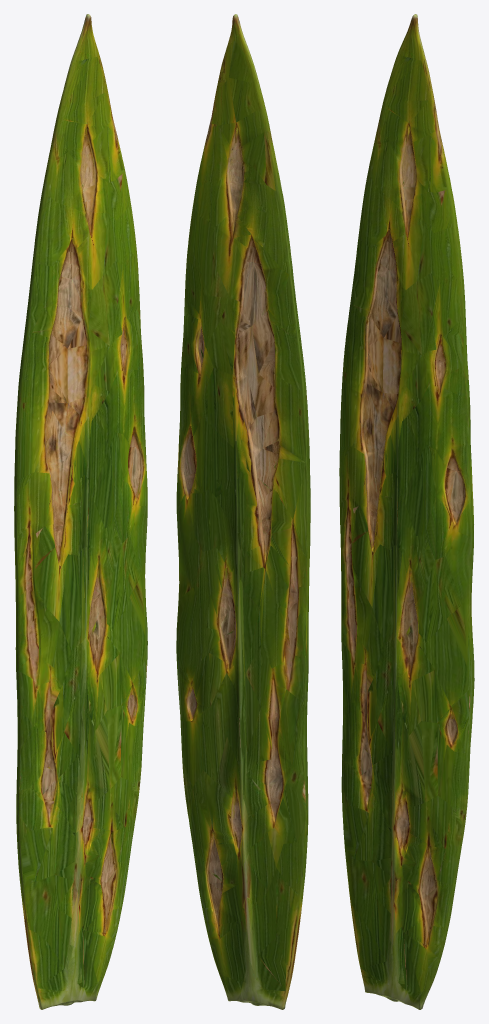
Rendered from wheat_blast.glb.
3 renders of one model, left to right at view 1: azimuth 30°, elevation 25°; view 2: azimuth 150°, elevation 25°; view 3: azimuth 330°, elevation 25°, orthographic.
Visible parts, largest first — view 1: wheat_blast; view 2: wheat_blast; view 3: wheat_blast.
Part boxes in pixels (bbox=[...]): wheat_blast: bbox=[14, 14, 147, 1009]; wheat_blast: bbox=[176, 14, 310, 1009]; wheat_blast: bbox=[339, 14, 474, 1009].
Bounding box in the file's own units: 0.1396 × 0.9999 × 0.0292.
1 material, 1 textured.
